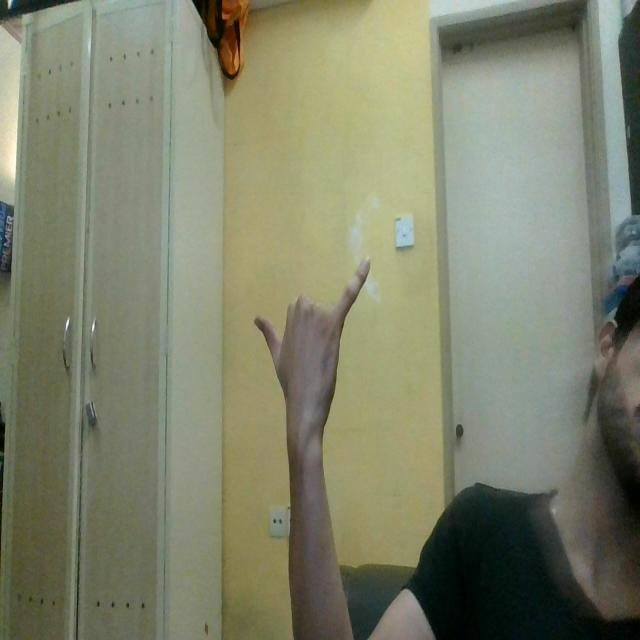shaka: (254, 257, 372, 442)
